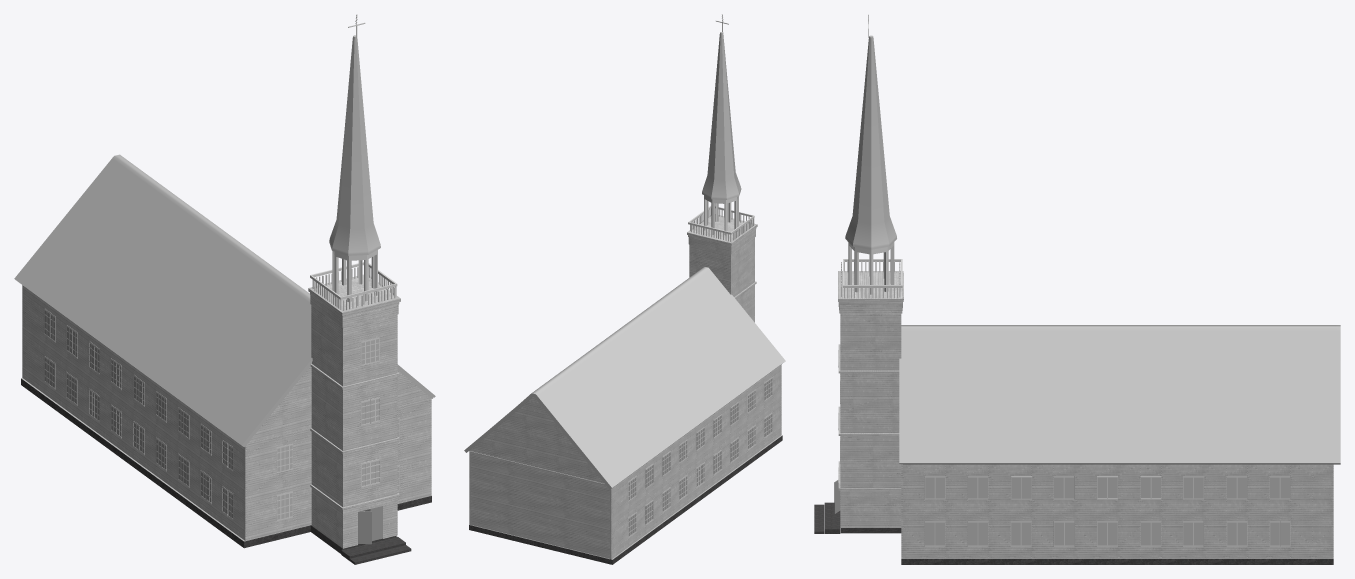
File: church.fbx
3 renders of one model, left to right at view 1: azimuth 30°, elevation 25°; view 2: azimuth 150°, elevation 25°; view 3: azimuth 270°, elevation 25°, orthographic. The views are drawn at different scales.
Parts seen in each view (by area): view 1: roof2, church_frame, tower, pCylinder2, roofp1, floor1, pPipe1, stair2, stable_bars9; view 2: roof2, church_frame, floor2, roofp, tower, pCylinder2, floor1, pPipe1; view 3: roof2, church_frame, tower, pCylinder2, floor1, pPipe1.
Boxes of the visible parts, left/top/right/bottom form: roof2: left=14, top=154, right=435, bottom=447; church_frame: left=22, top=285, right=431, bottom=540; tower: left=308, top=274, right=400, bottom=548; pCylinder2: left=329, top=35, right=380, bottom=255; roofp1: left=248, top=366, right=431, bottom=443; floor1: left=21, top=378, right=431, bottom=548; pPipe1: left=332, top=250, right=377, bottom=302; stair2: left=341, top=536, right=405, bottom=560; stable_bars9: left=310, top=262, right=397, bottom=299; roof2: left=464, top=267, right=785, bottom=489; church_frame: left=469, top=364, right=781, bottom=559; floor2: left=470, top=451, right=609, bottom=558; roofp: left=469, top=396, right=603, bottom=483; tower: left=687, top=214, right=757, bottom=322; pCylinder2: left=702, top=32, right=741, bottom=199; floor1: left=469, top=435, right=782, bottom=564; pPipe1: left=704, top=195, right=738, bottom=235; roof2: left=899, top=325, right=1340, bottom=464; church_frame: left=901, top=464, right=1333, bottom=557; tower: left=838, top=271, right=903, bottom=527; pCylinder2: left=845, top=35, right=896, bottom=249; floor1: left=901, top=558, right=1333, bottom=564; pPipe1: left=848, top=242, right=894, bottom=294.
Size of the model in its own units: 61.64 by 159 by 149.
